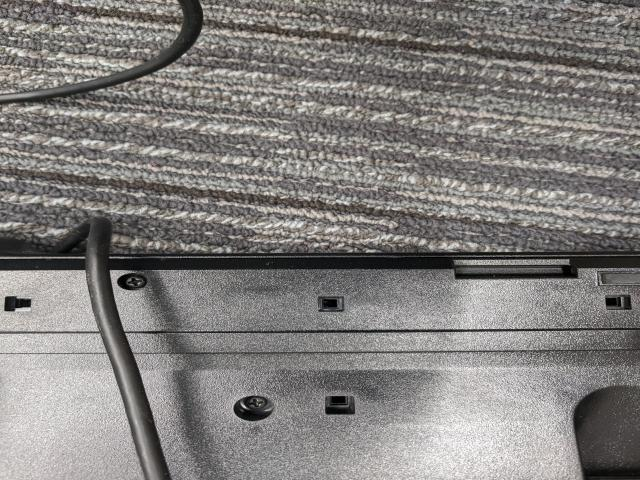CRS: (239, 395, 274, 411), (120, 275, 146, 288)
